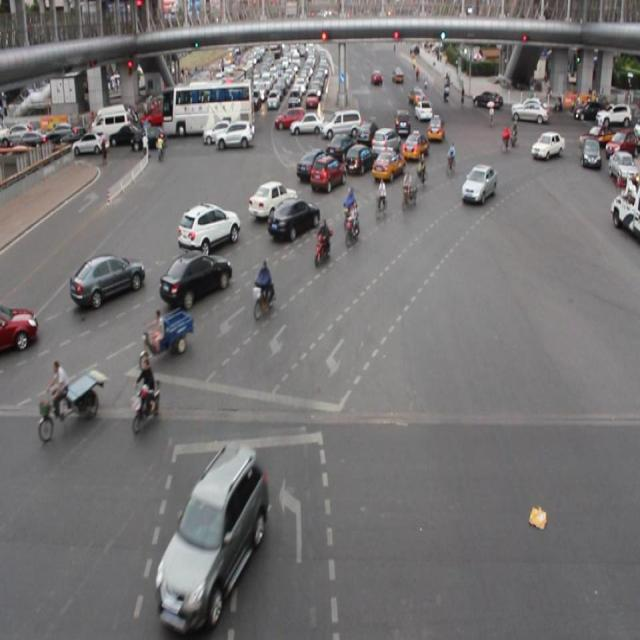car: (155, 444, 262, 617), (159, 251, 234, 307), (70, 252, 145, 304), (175, 200, 241, 253), (266, 195, 321, 241), (1, 303, 39, 357), (249, 181, 297, 220), (461, 160, 497, 204), (308, 155, 345, 192), (370, 149, 405, 183), (530, 130, 566, 162), (369, 122, 401, 154), (324, 132, 355, 164), (345, 142, 374, 176), (401, 132, 430, 164), (296, 148, 326, 178)
